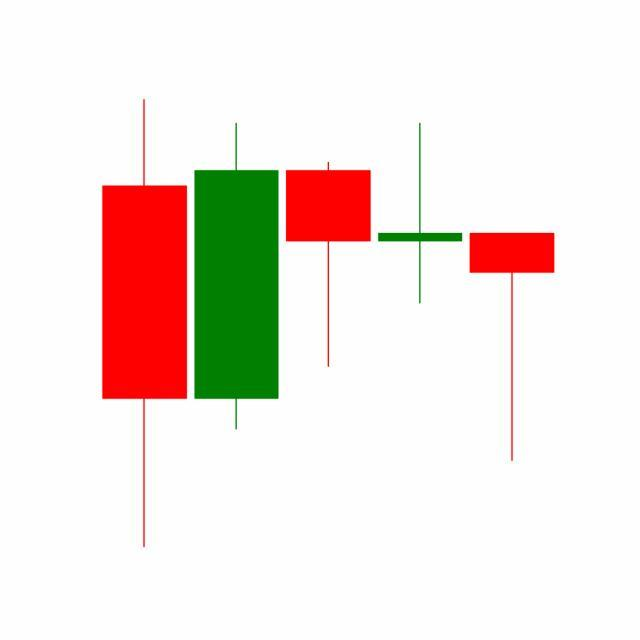Hammer: (466, 230, 559, 464)
